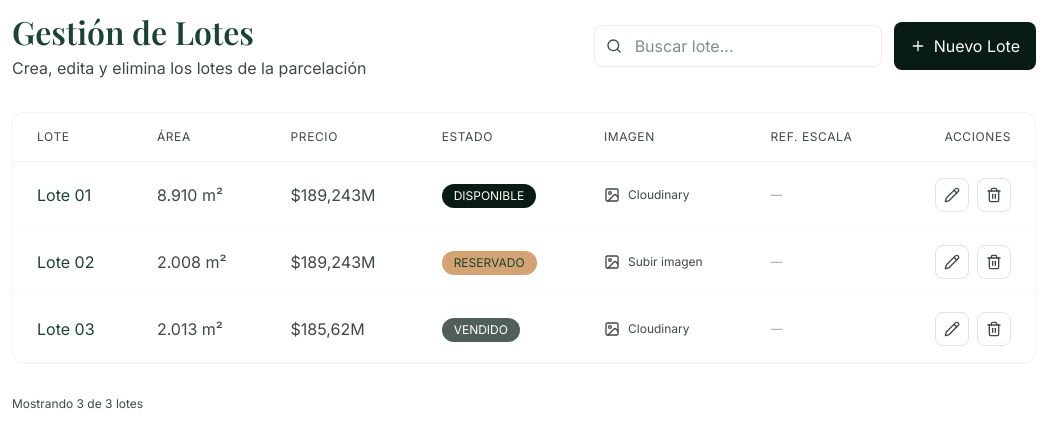
LotsPage › Search filtering › shows all lots when search is cleared
Step 1. Type "01" into the field with placeholder "Buscar lote..." → (738, 46), box [594,25,882,67]
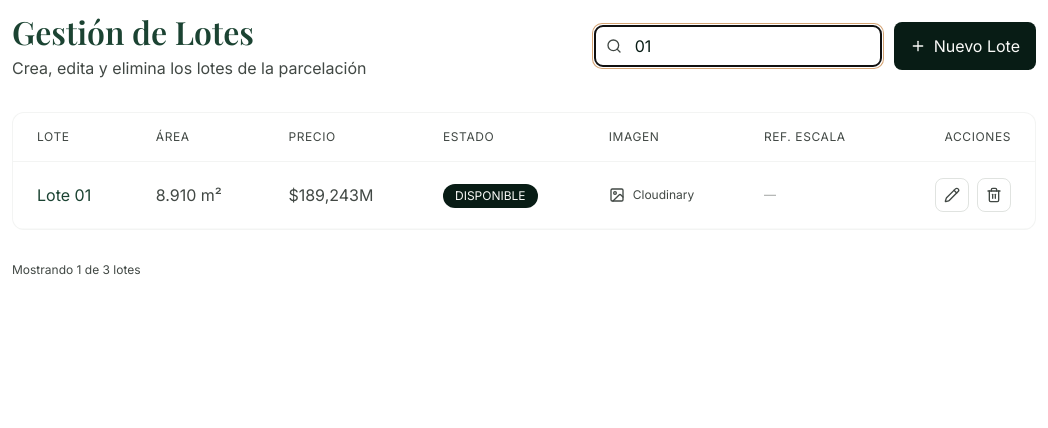
Step 2. Clear the field with placeholder "Buscar lote..." → (738, 46), box [594,25,882,67]
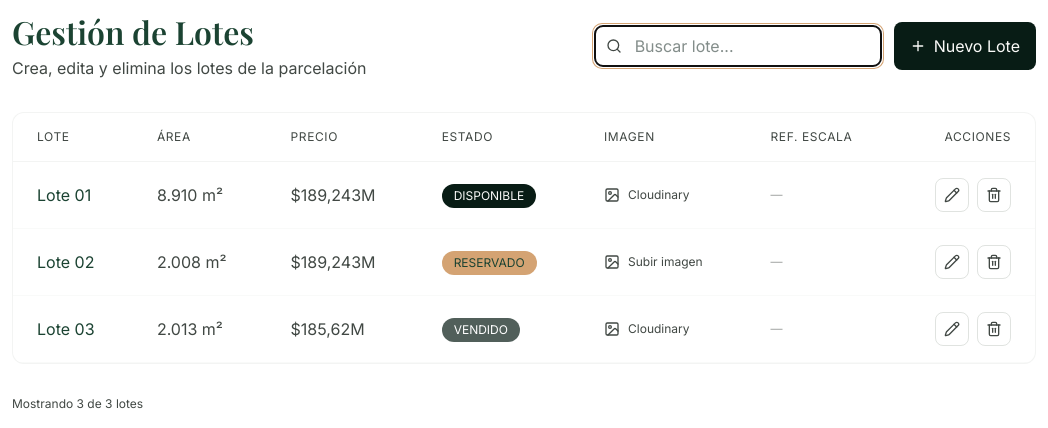
Result: the text "Lote 02" is shown at [37,252,94,272]
Result: the text "Lote 03" is shown at [37,319,94,339]
Result: the text "Mostrando 3 de 3 lotes" is shown at [12,396,143,411]
